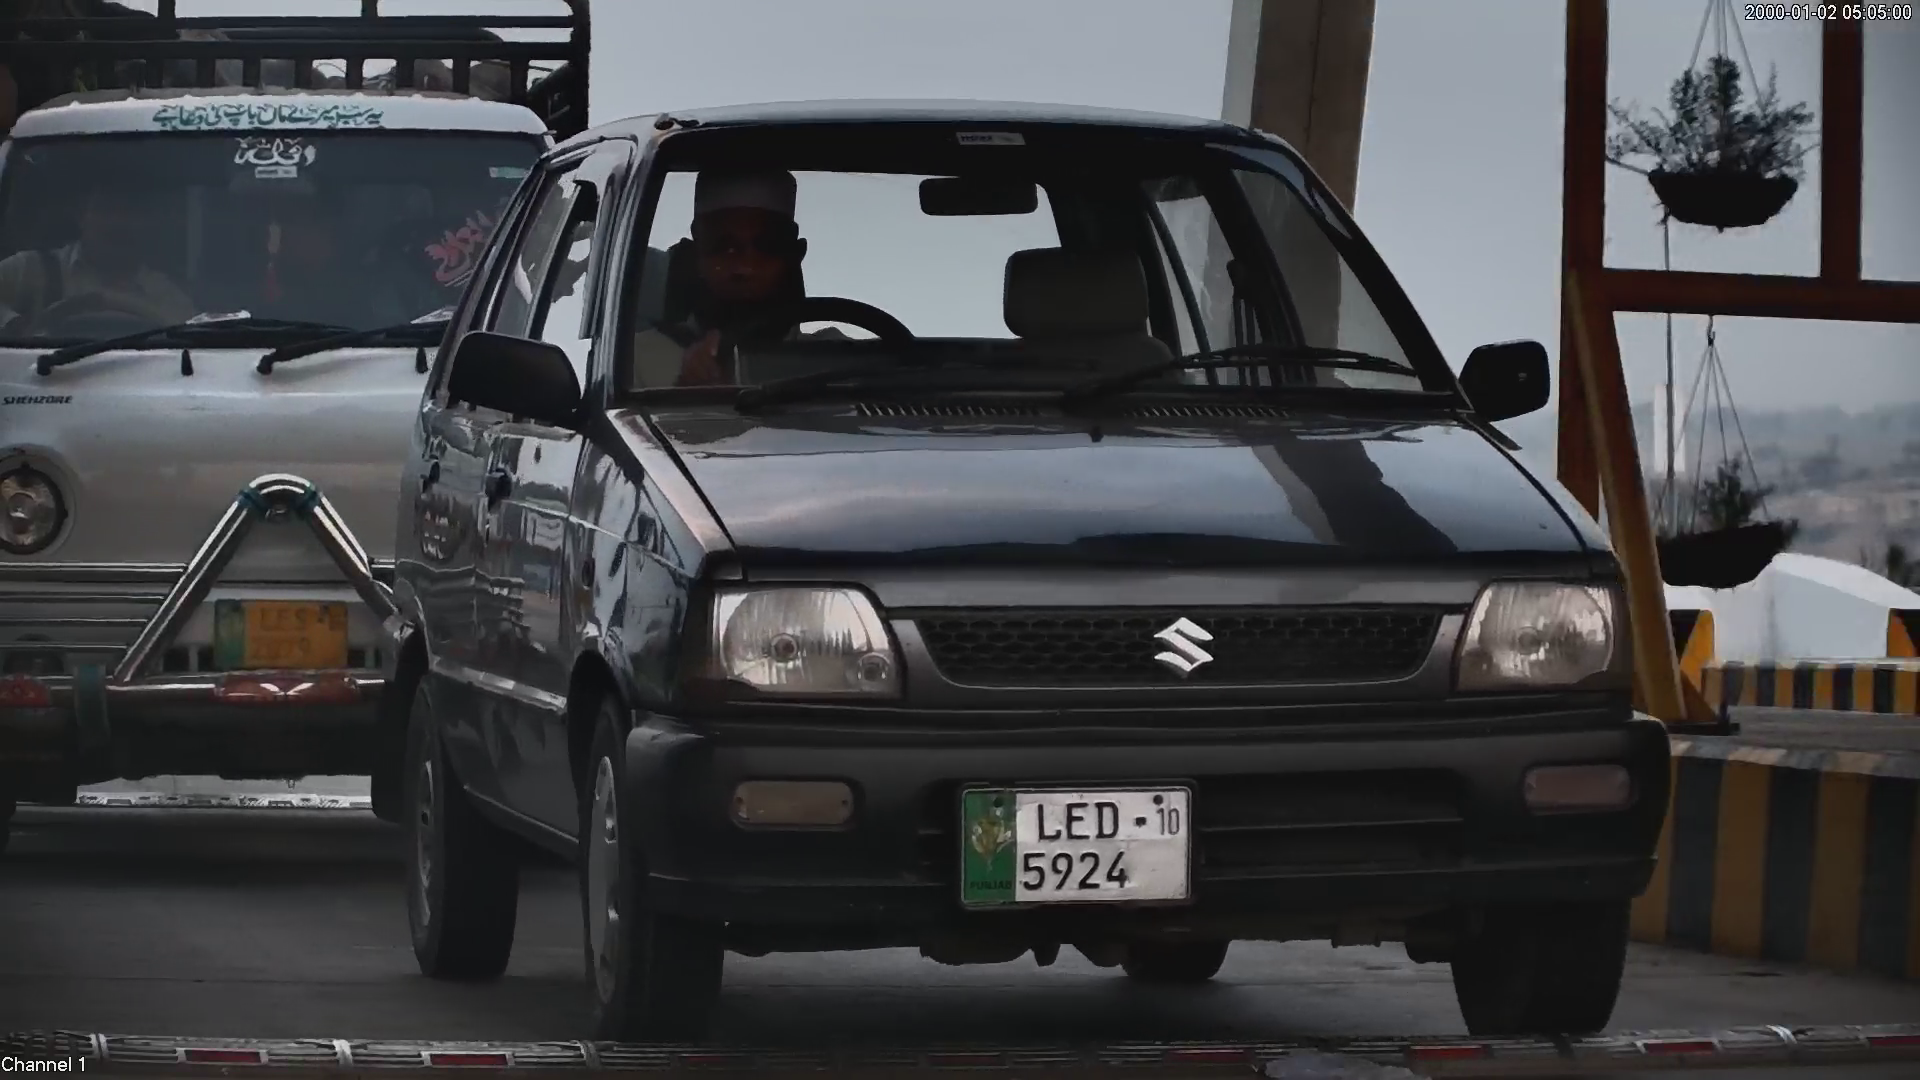Number_Plate: (949, 769, 1203, 925)
